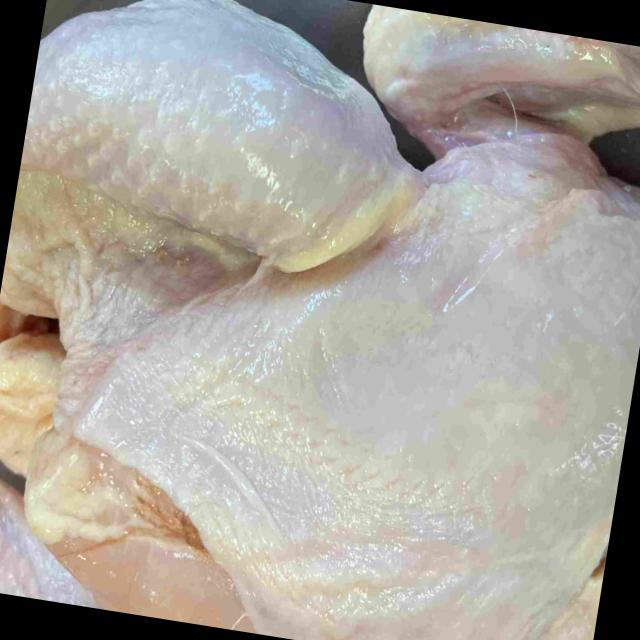breast: (28, 153, 640, 640)
leg: (20, 0, 407, 276), (0, 470, 98, 609)
neck: (540, 567, 605, 640)
wing: (365, 4, 640, 155)
